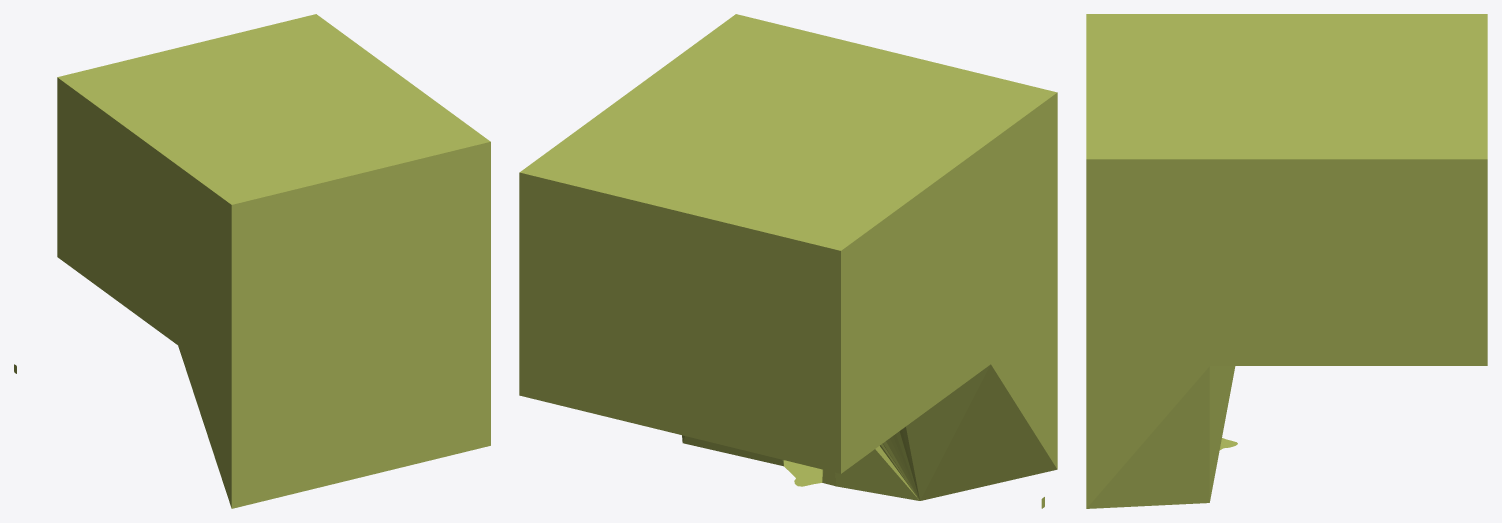
Rendered from level_collision_player.fbx.
3 views of the same model, side by side, from view 1: azimuth 30°, elevation 25°; view 2: azimuth 150°, elevation 25°; view 3: azimuth 270°, elevation 25° (orthographic). The views are drawn at different scales.
Parts seen in each view (by area): view 1: level_collision_player; view 2: level_collision_player; view 3: level_collision_player.
Boxes of the visible parts, <box> form: level_collision_player: <box>14,14,490,508</box>; level_collision_player: <box>519,14,1057,508</box>; level_collision_player: <box>1086,14,1487,508</box>.
Size of the model in its own units: 5891235 by 4734690 by 4926456.
